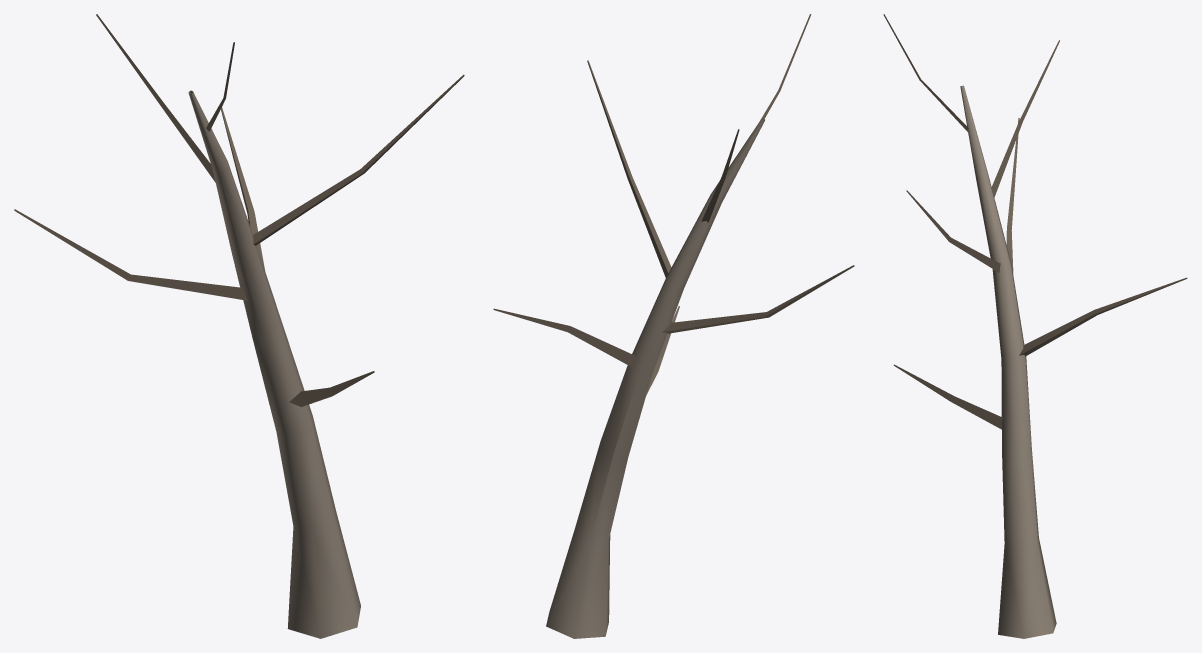
File: tree_dead_b_lod1.glb
3 renders of one model, left to right at view 1: azimuth 30°, elevation 25°; view 2: azimuth 150°, elevation 25°; view 3: azimuth 270°, elevation 25°, orthographic. The views are drawn at different scales.
Visible parts, largest first — view 1: tree_dead_b_lod1; view 2: tree_dead_b_lod1; view 3: tree_dead_b_lod1.
Part boxes in pixels (x1,y1,x2,y2): tree_dead_b_lod1: (14,14,464,638); tree_dead_b_lod1: (493,14,854,638); tree_dead_b_lod1: (883,14,1187,638).
Size of the model in its own units: 5.25 by 9.11 by 4.58.
